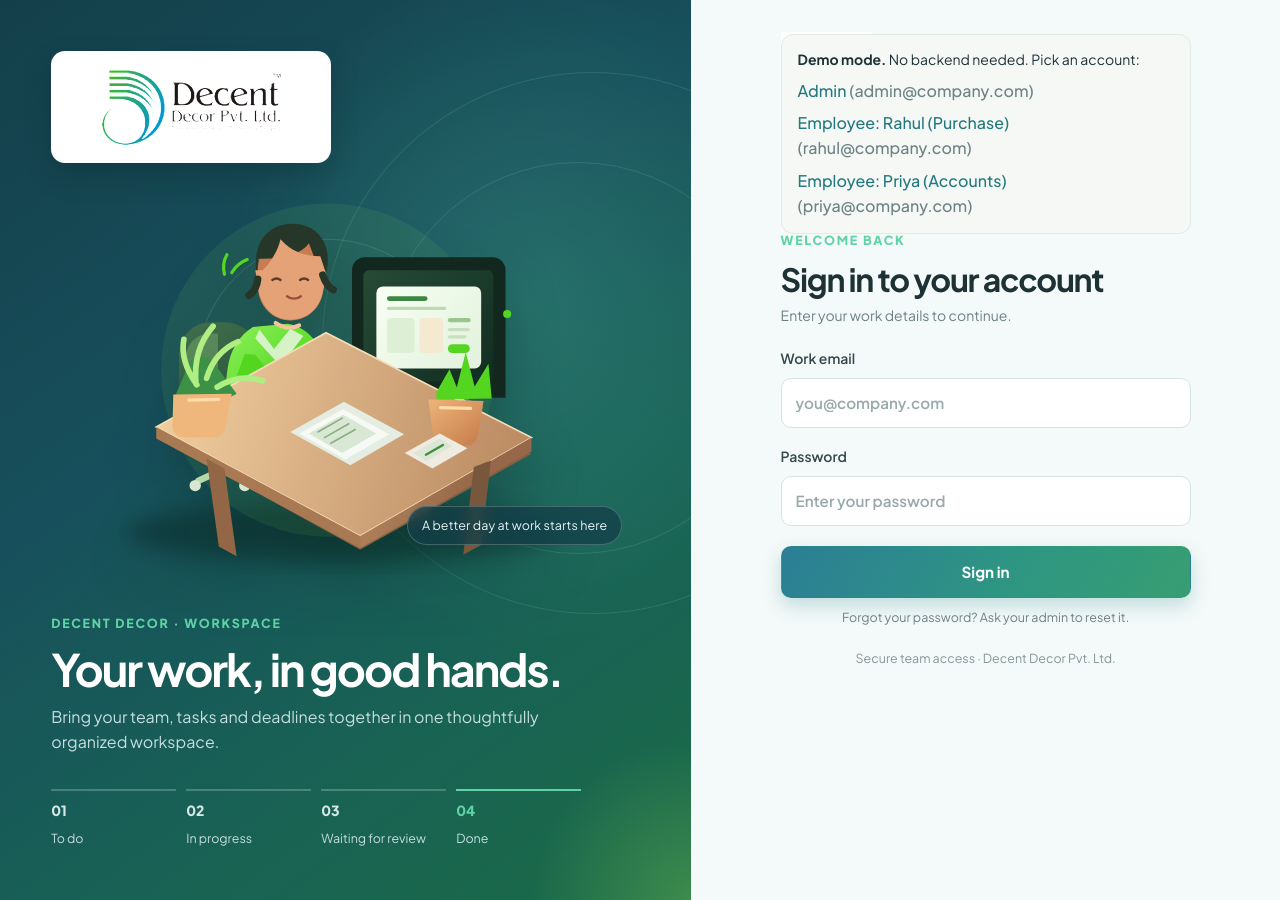
Scenario: sign in › shows a readable error for a wrong password
Type "admin@company.com" into the field labelled "Work email" at (986, 403), box [781,378,1191,428]
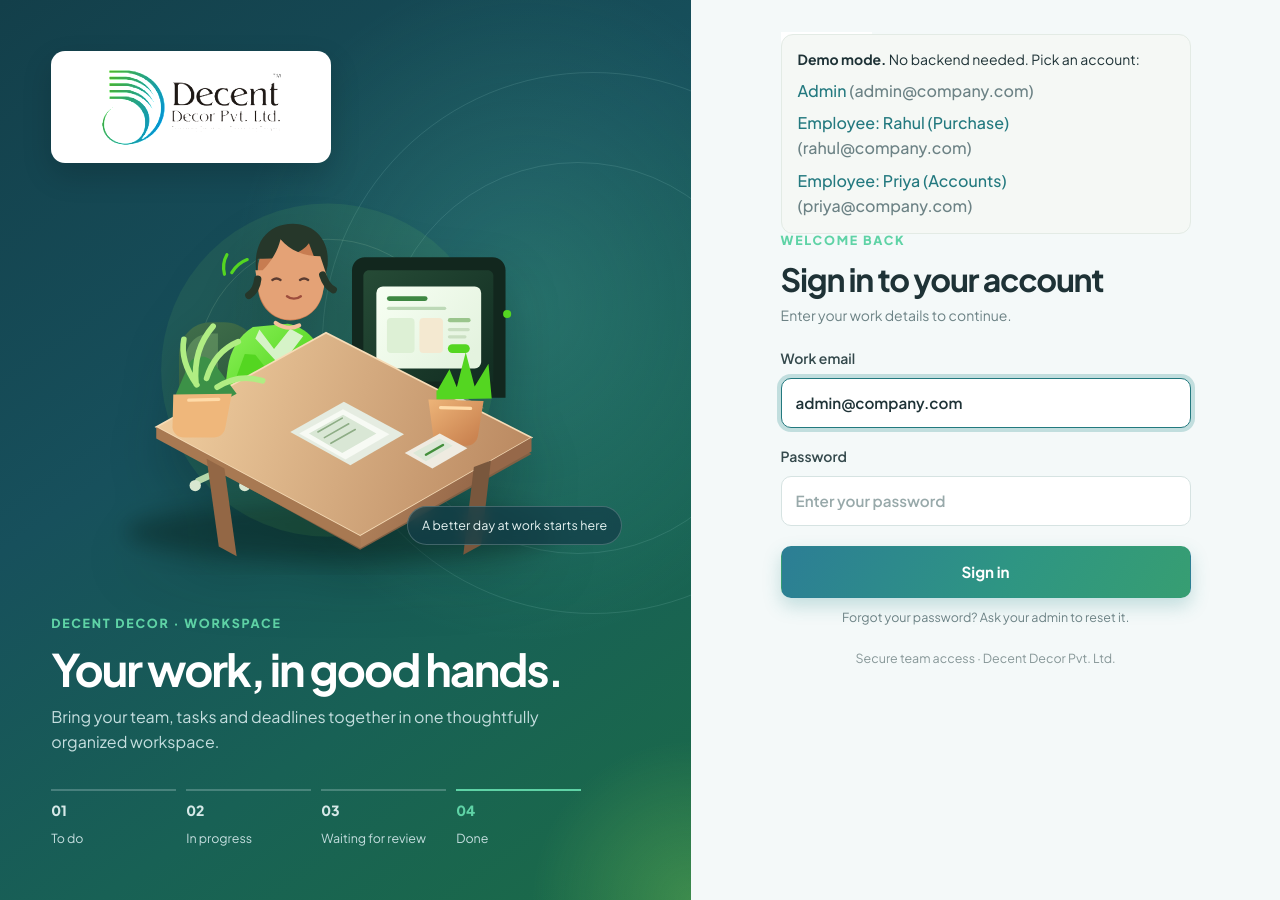
Type "wrong-pass" into the password field labelled "Password" at (986, 501), box [781,476,1191,526]
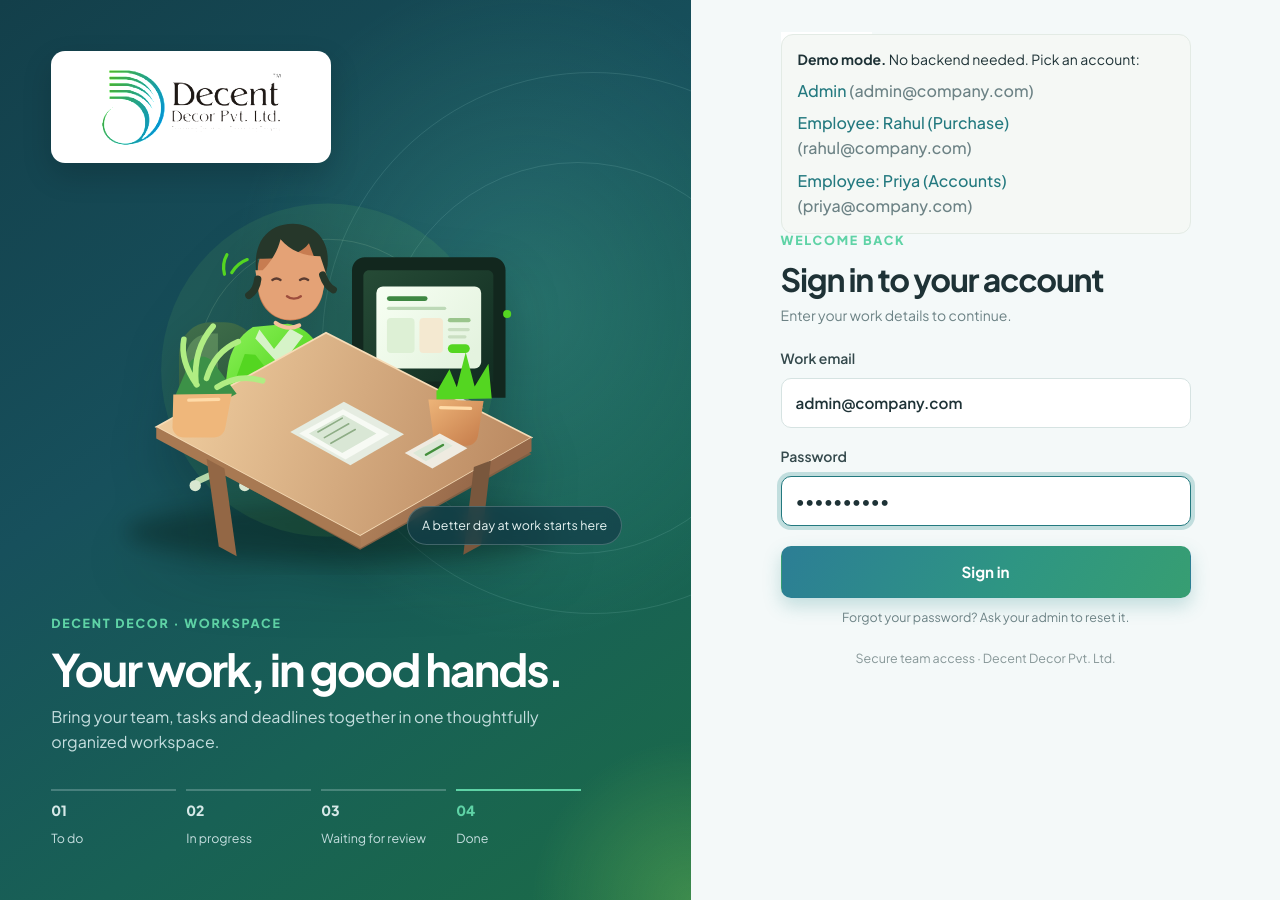
Click the button "Sign in" at (986, 572), box [781,546,1191,598]
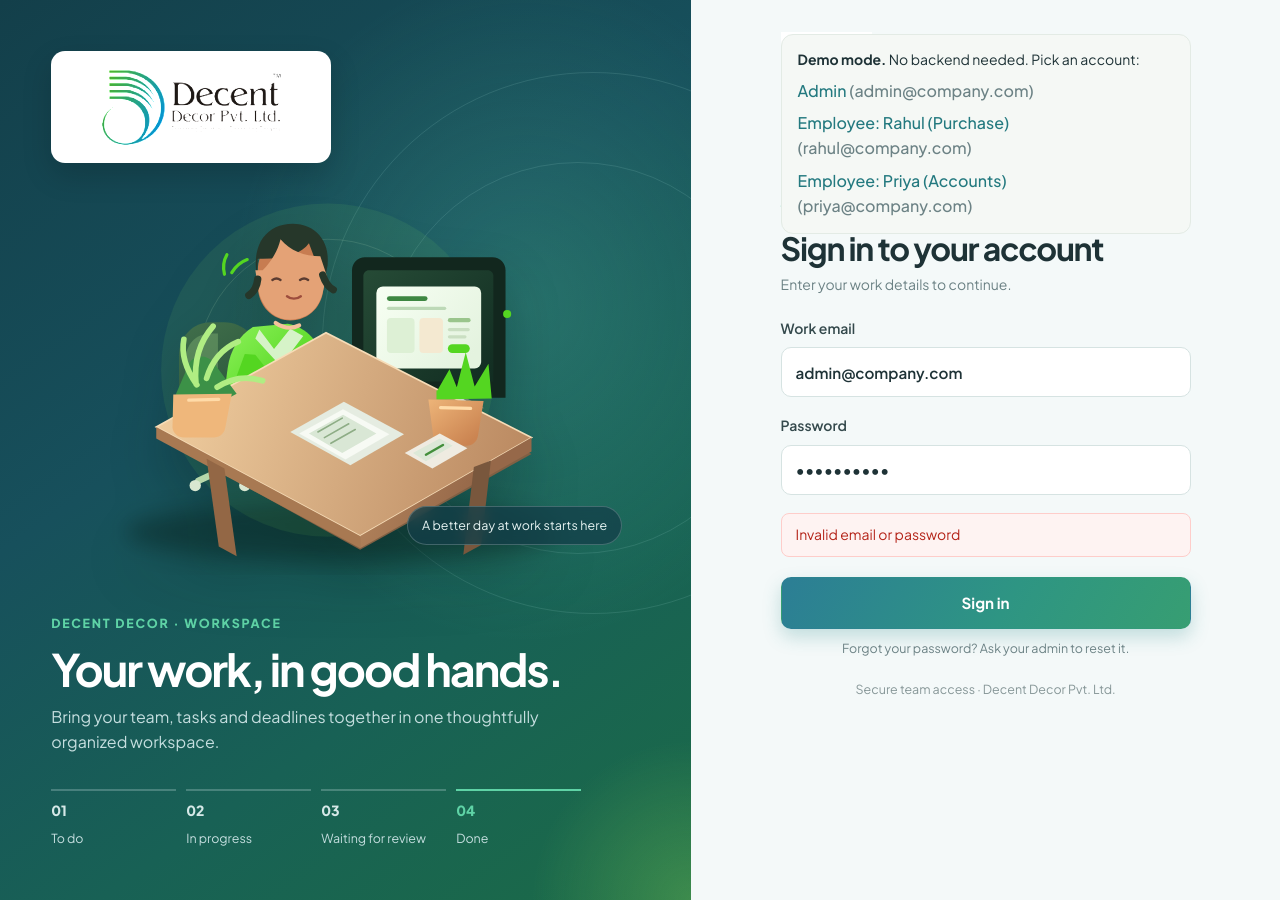
Expected: the message reads "Invalid email or password", [796,525,960,543]
